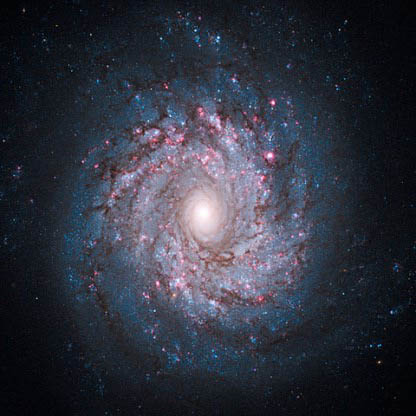NGC 3982: (46, 36, 329, 382)
